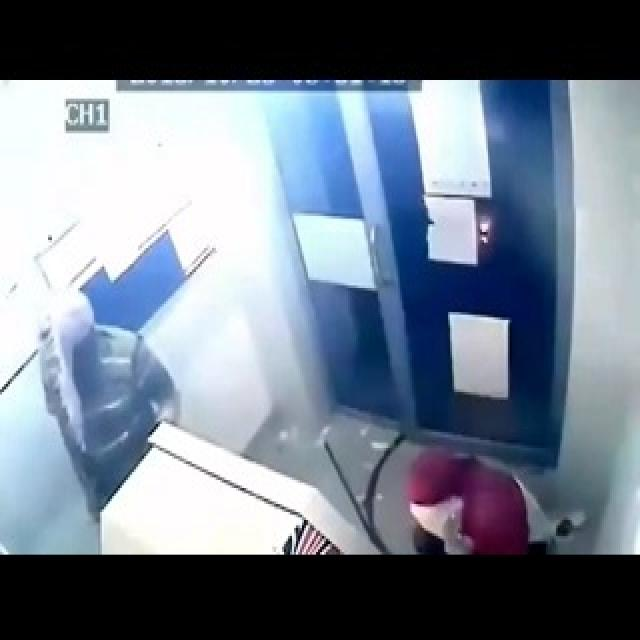thief: (34, 288, 164, 481), (411, 452, 535, 549)
